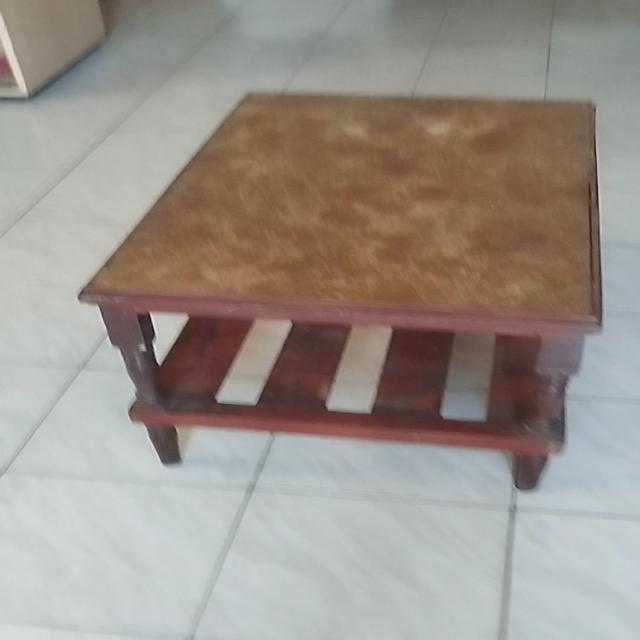table: (74, 88, 610, 499)
